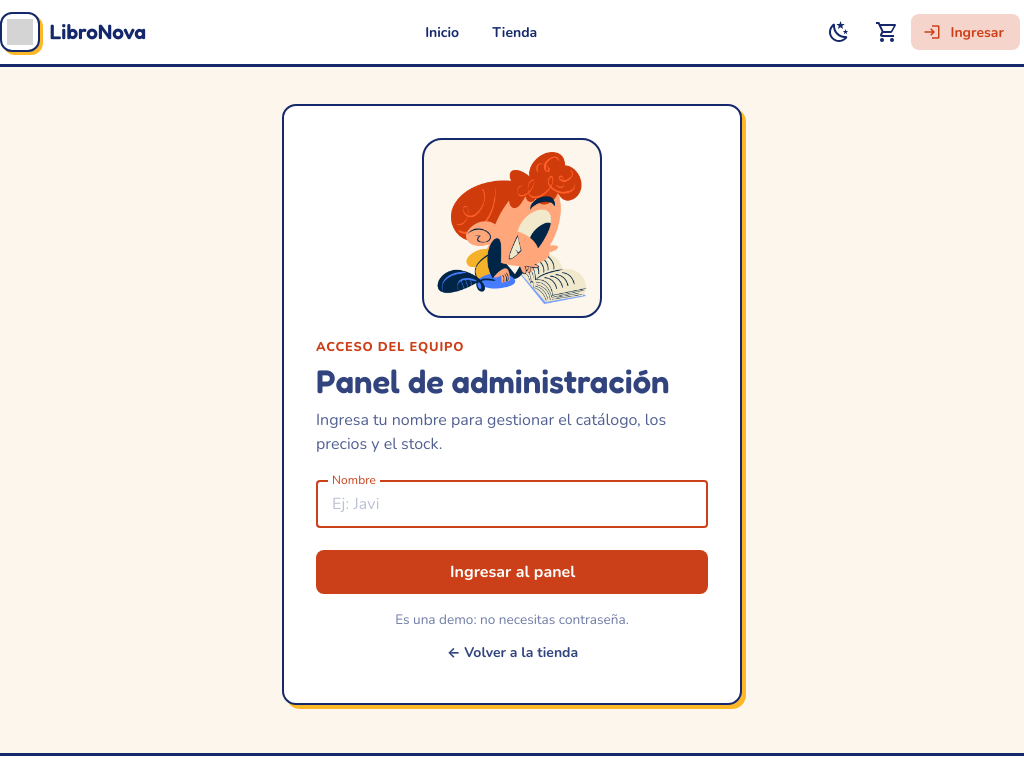
Test: Acceso al panel de administración › valida que el nombre no esté vacío
Click the button with test id "btn-login" at point(512, 573), box [316, 551, 708, 595]
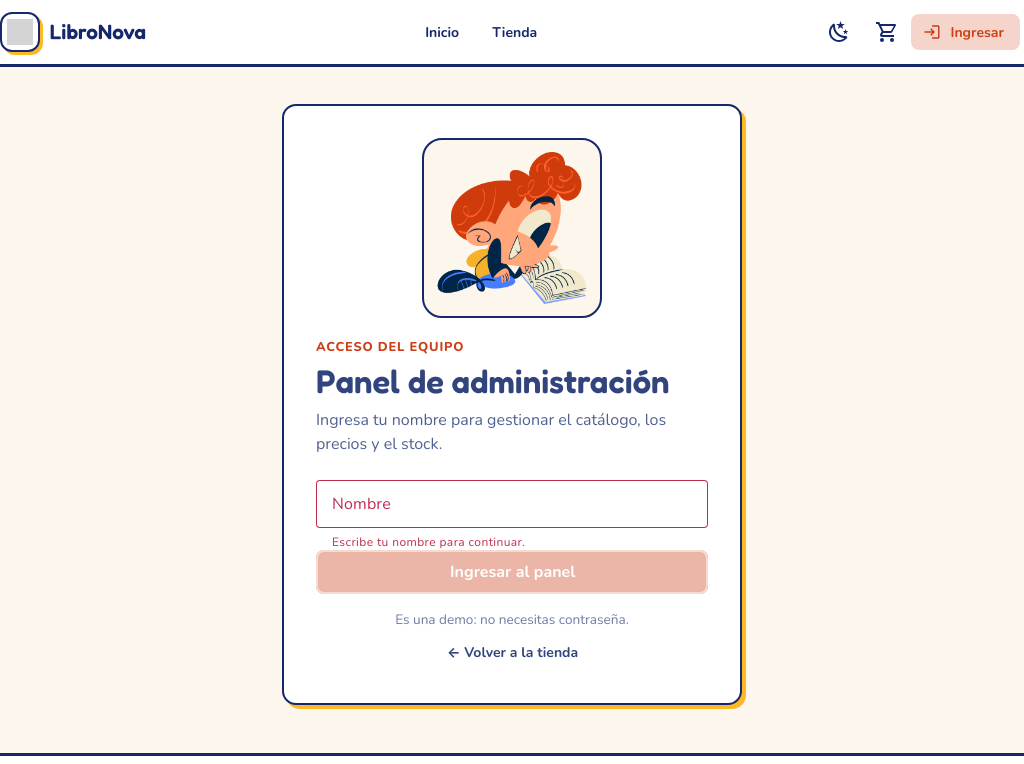
Result: the text "Escribe tu nombre para continuar." is shown at [332, 534, 525, 550]
